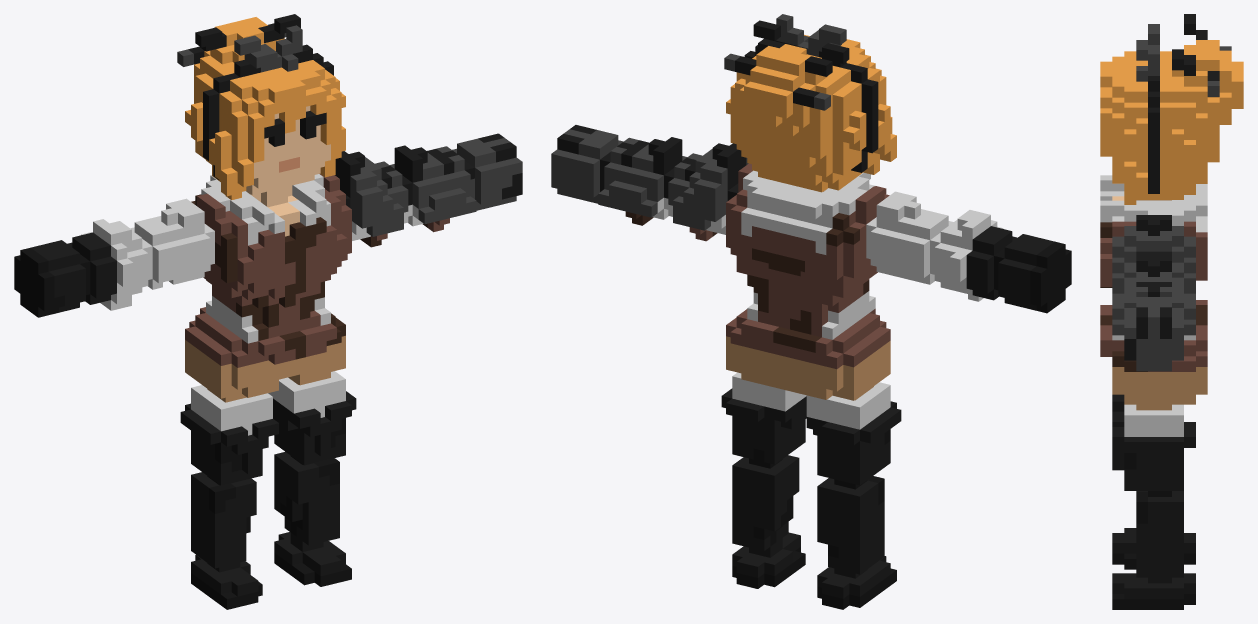
The model's file is human_woman_adventurer.dae.
3 renders of one model, left to right at view 1: azimuth 30°, elevation 25°; view 2: azimuth 150°, elevation 25°; view 3: azimuth 270°, elevation 25°, orthographic. The views are drawn at different scales.
Parts seen in each view (by area): view 1: human_woman_adventurer.001; view 2: human_woman_adventurer.001; view 3: human_woman_adventurer.001.
Part boxes in pixels (box(x1,y1,x2,y2)): human_woman_adventurer.001: box(14, 14, 522, 609); human_woman_adventurer.001: box(551, 14, 1071, 609); human_woman_adventurer.001: box(1100, 14, 1243, 609).
Bounding box in the file's own units: 4.6 × 1.2 × 5.
1 material, 1 textured.
